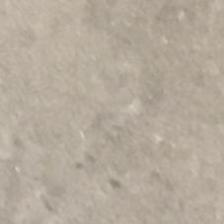Non_Crack: (19, 39, 212, 197)
